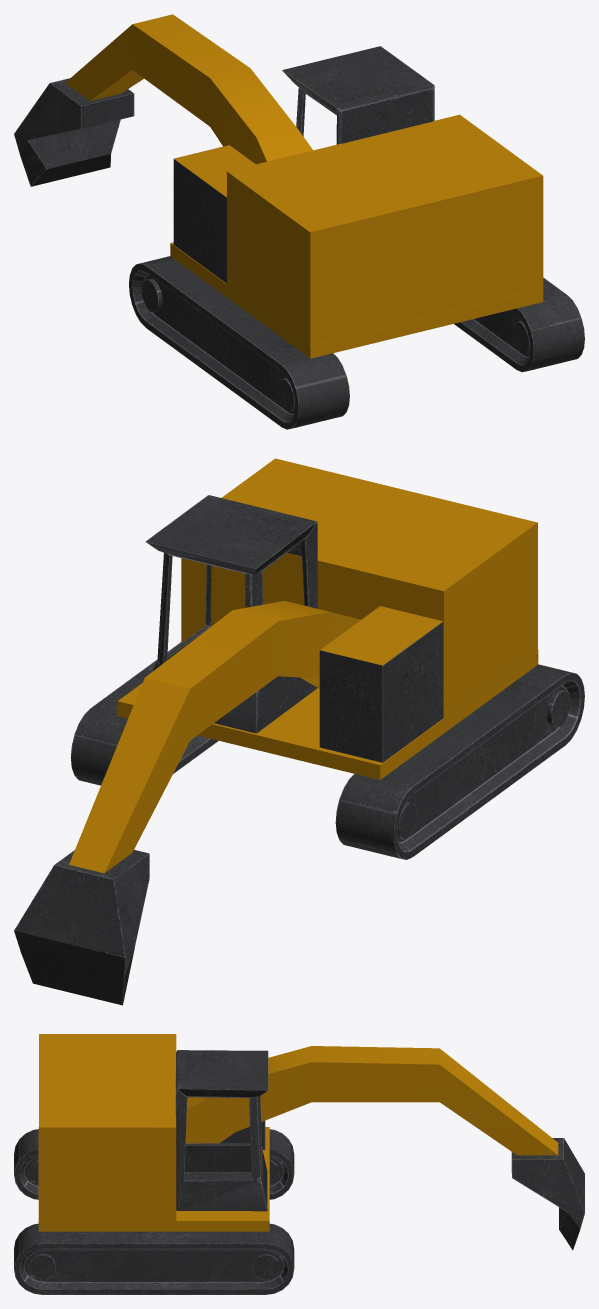
Rendered from RodKudDin.fbx.
3 views of the same model, one above another, from view 1: azimuth 30°, elevation 25°; view 2: azimuth 150°, elevation 25°; view 3: azimuth 270°, elevation 25° (orthographic). The views are drawn at different scales.
Visible parts, largest first — view 1: RodKudDin; view 2: RodKudDin; view 3: RodKudDin.
Part boxes in pixels (<box>): RodKudDin: <box>14,14,584,429</box>; RodKudDin: <box>14,458,584,1005</box>; RodKudDin: <box>14,1034,584,1294</box>.
Size of the model in its own units: 7.31 by 5.79 by 15.31.
